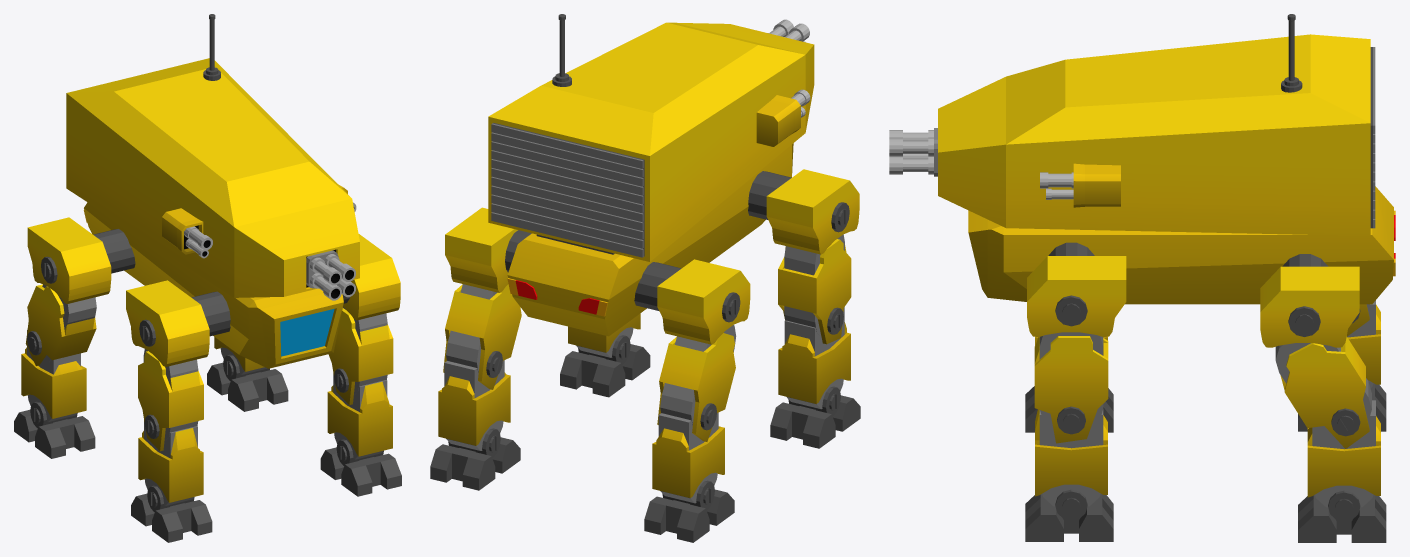
Rendered from SK_Enemy_Big.fbx.
3 views of the same model, side by side, from view 1: azimuth 30°, elevation 25°; view 2: azimuth 150°, elevation 25°; view 3: azimuth 270°, elevation 25° (orthographic). The views are drawn at different scales.
Visible parts, largest first — view 1: SK_Enemy_Big; view 2: SK_Enemy_Big; view 3: SK_Enemy_Big.
Part boxes in pixels (x1,y1,x2,y2): SK_Enemy_Big: (14,14,401,542); SK_Enemy_Big: (430,14,860,542); SK_Enemy_Big: (889,14,1395,542).
Bounding box in the file's own units: 2.93 × 4.7 × 4.48.
